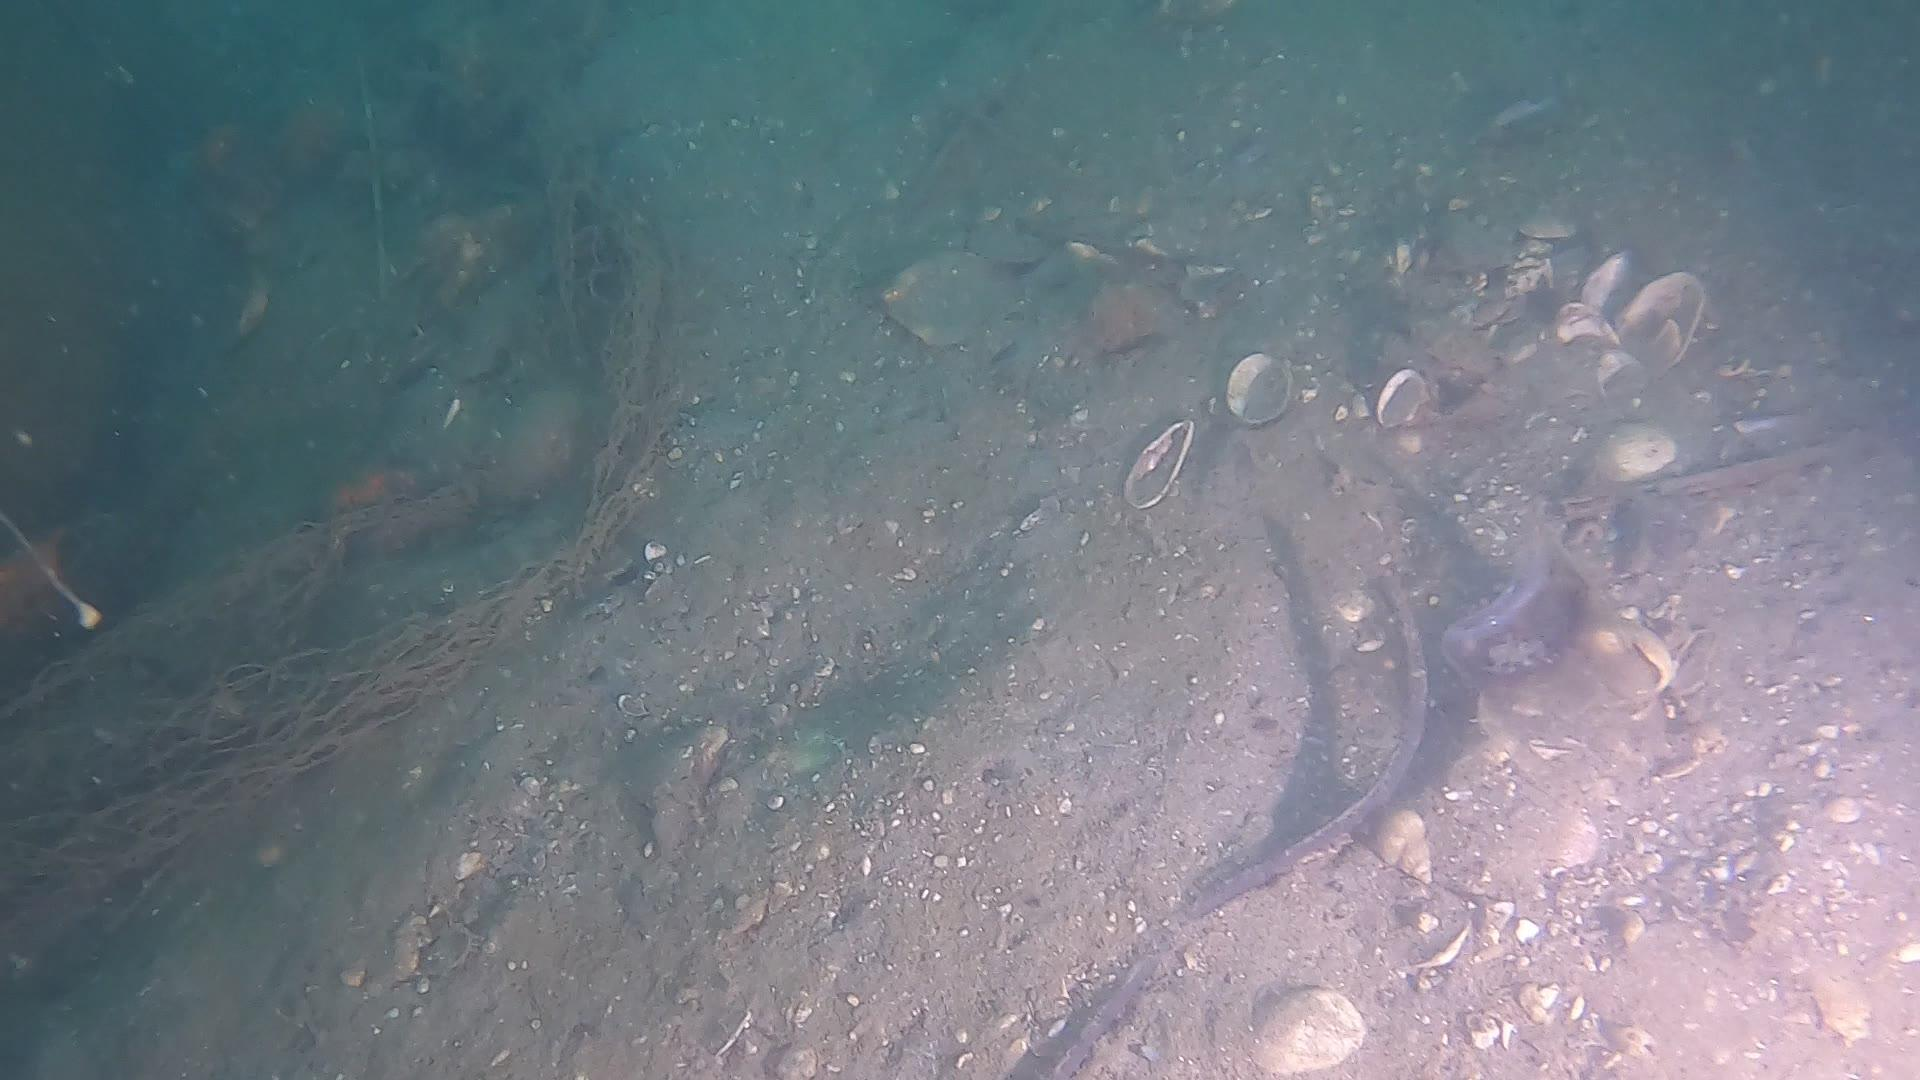fish net: (0, 181, 698, 897)
